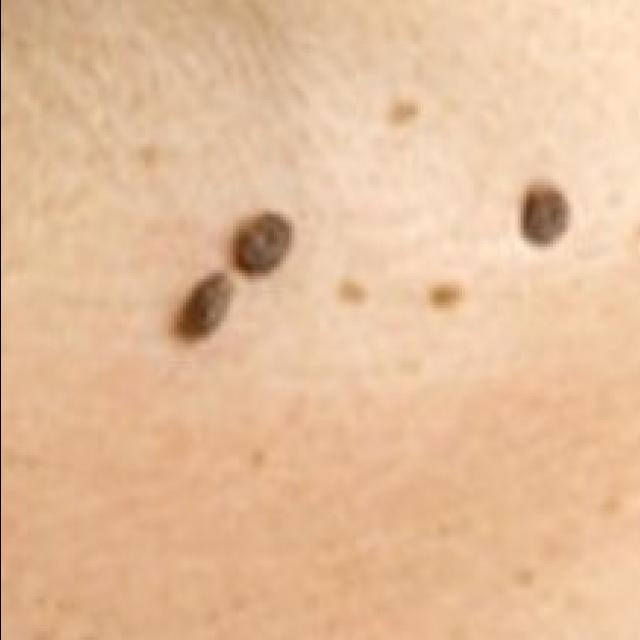wart: (232, 208, 296, 278), (173, 274, 235, 344), (522, 182, 572, 246)
